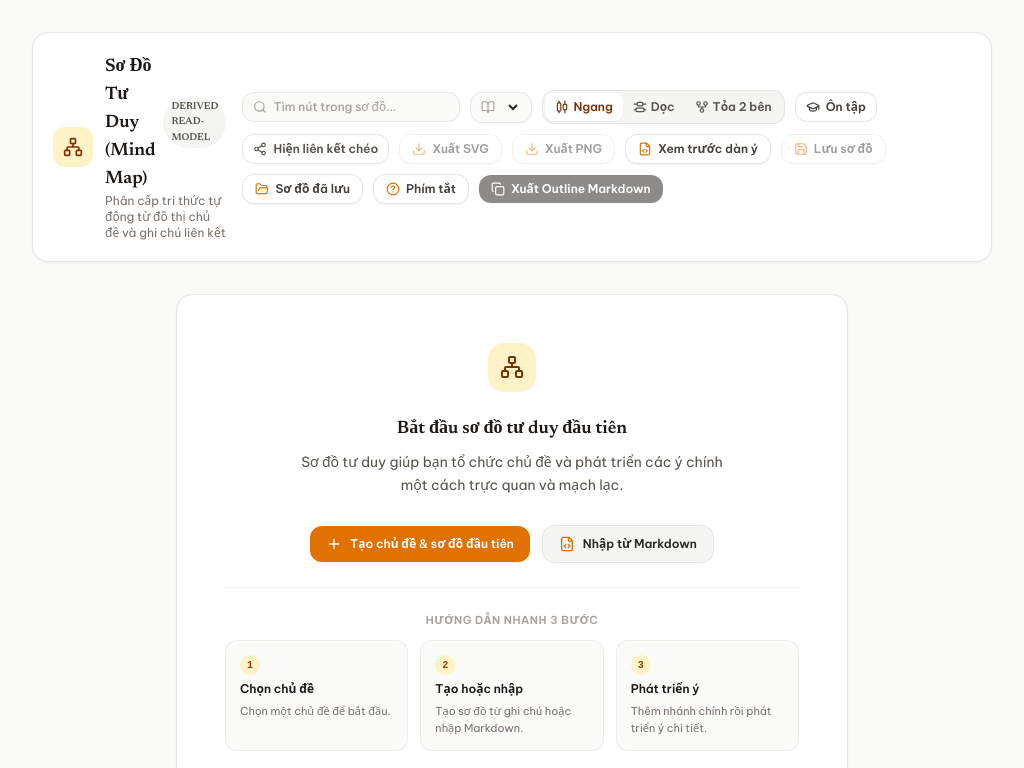
Test: PR 4 (Phase 25): MindMap Empty State, Onboarding & Error Differentiation › Scenario 1: When workspace has 0 topics, displays positive empty state with primary and secondary CTAs and 3 micro-steps
Expected: the heading "Bắt đầu sơ đồ tư duy đầu tiên" is shown, [397, 420, 627, 438]
Expected: the text "Sơ đồ tư duy giúp bạn tổ chức chủ đề và phát triển các ý chính" is shown, [301, 453, 723, 494]
# Clicking Primary CTA opens TopicFormModal
Click the button "Tạo chủ đề & sơ đồ đầu tiên" at point(420, 544), box [310, 526, 530, 562]
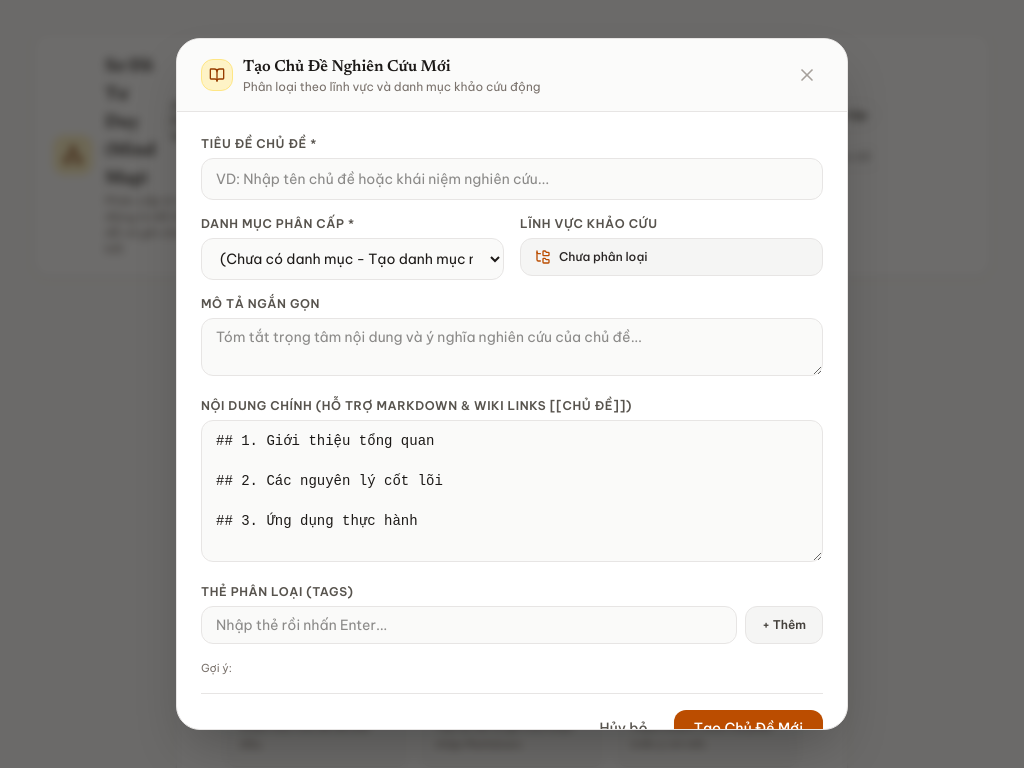
Now the heading "Tạo Chủ Đề Nghiên Cứu Mới" is shown, box [243, 59, 451, 75]
# Close topic modal
Click the button named "Đóng" at point(807, 75), box [791, 59, 823, 91]
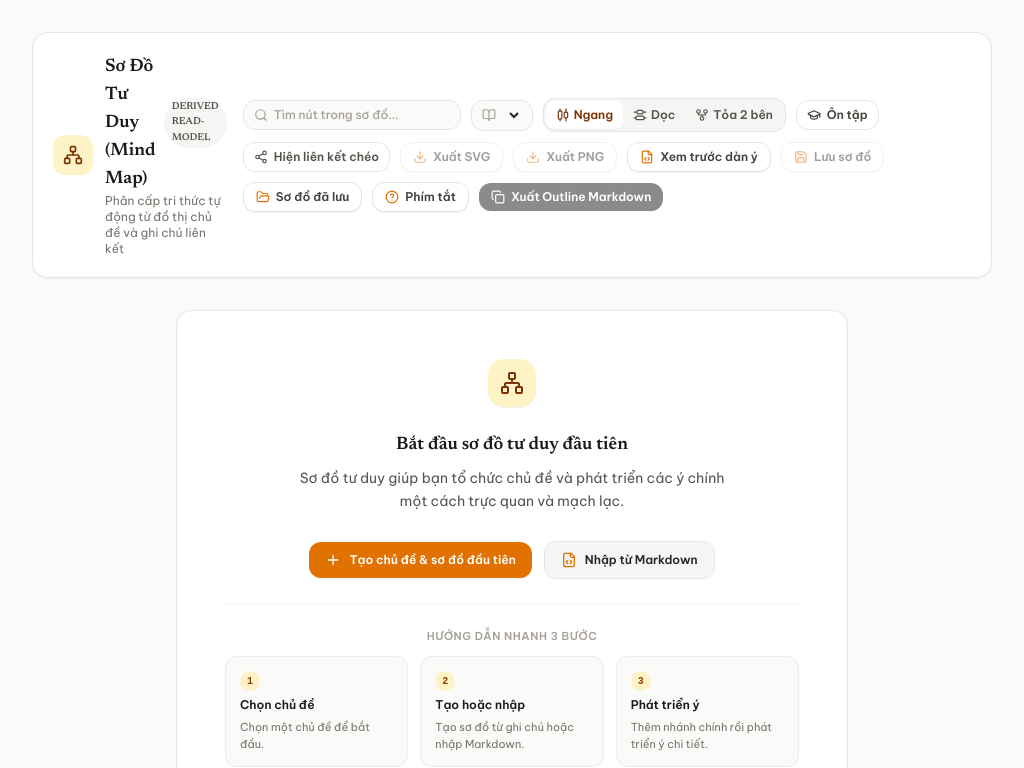
# Clicking Secondary CTA opens MindMapImportPreviewModal
Click the button with test id "btn-empty-import-markdown" at point(629, 560), box [544, 540, 715, 578]
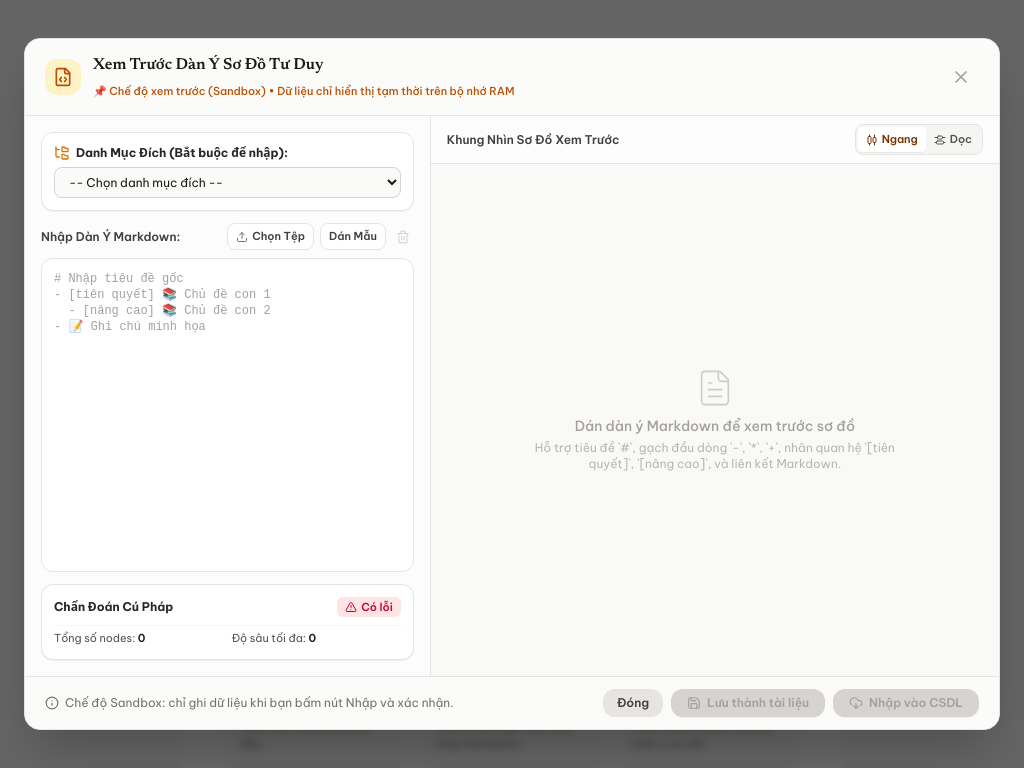
Now the heading "Xem Trước Dàn Ý Sơ Đồ Tư Duy" is shown, box [93, 57, 324, 73]
